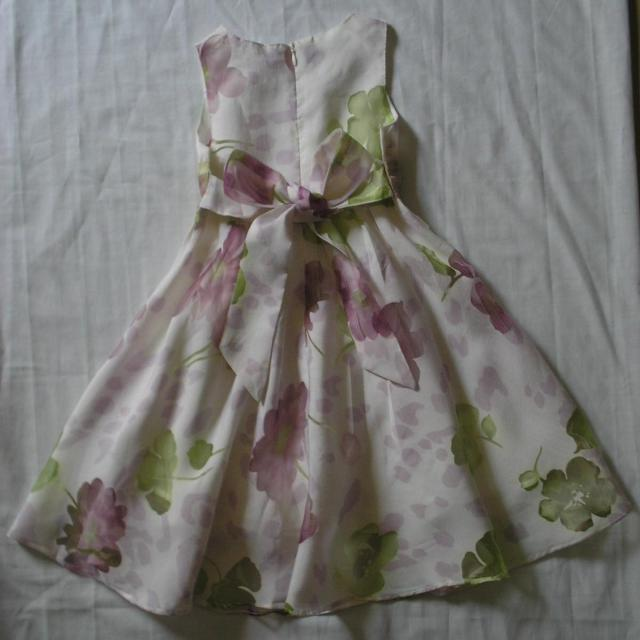Dress: (20, 24, 636, 620)
